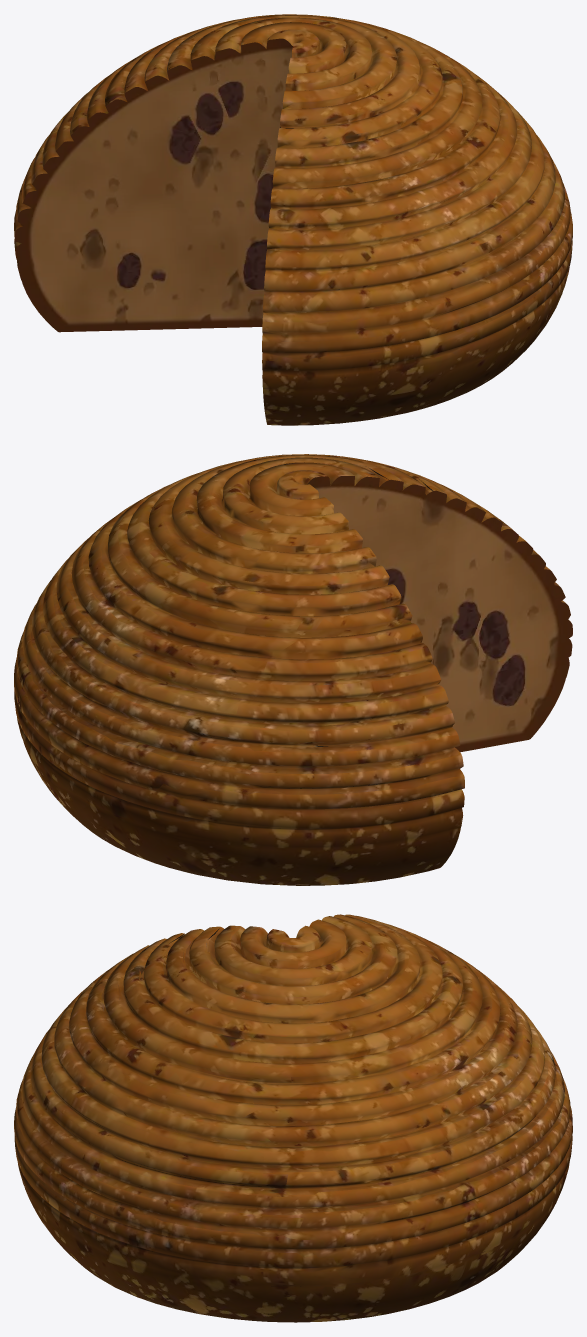
File: wholewheat--raisin-flesh.glb
3 views of the same model, one above another, from view 1: azimuth 30°, elevation 25°; view 2: azimuth 150°, elevation 25°; view 3: azimuth 270°, elevation 25° (orthographic). The views are drawn at different scales.
Parts seen in each view (by area): view 1: wholewheat_raisin-flesh; view 2: wholewheat_raisin-flesh; view 3: wholewheat_raisin-flesh.
Part boxes in pixels (x1,y1,x2,y2): wholewheat_raisin-flesh: (14, 14, 572, 425); wholewheat_raisin-flesh: (14, 454, 572, 885); wholewheat_raisin-flesh: (14, 914, 572, 1322).
Size of the model in its own units: 0.9477 by 0.5691 by 0.998.
Materials: 1 (1 with a texture image).
